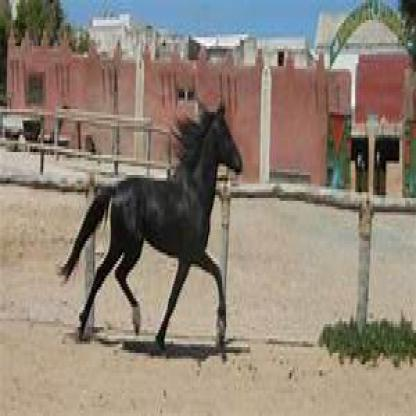horse: (58, 109, 244, 350)
